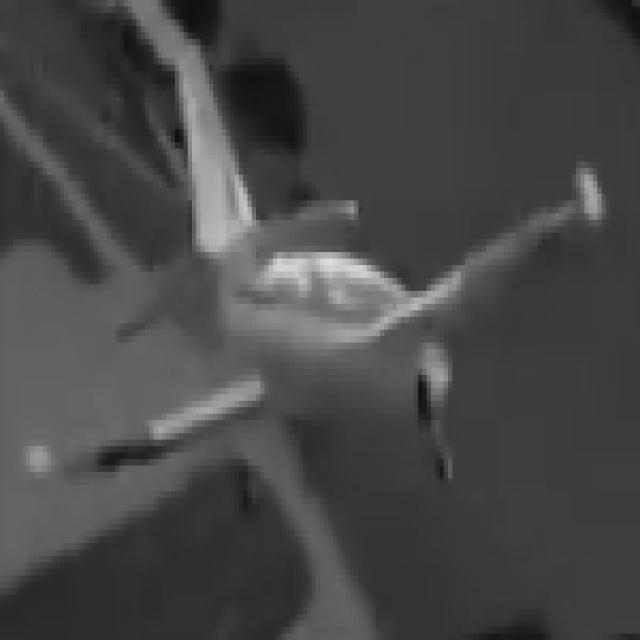iha: (26, 45, 602, 511)
